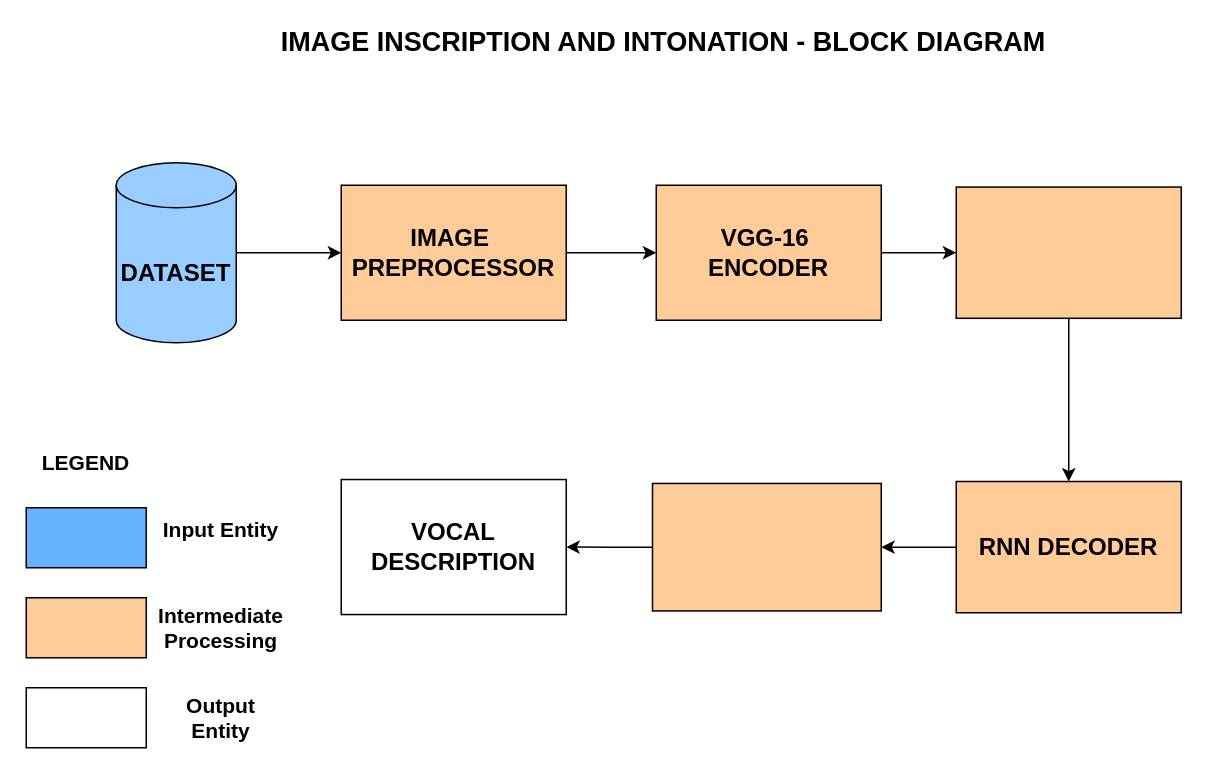
The diagram is 1208 pixels wide and 774 high, and some of its shapes have lost their labels. Each missing label, with the box of its shape:
LEXICAL ARTICULATOR: (651, 482, 881, 611)
TOKENIZER: (955, 186, 1181, 318)
